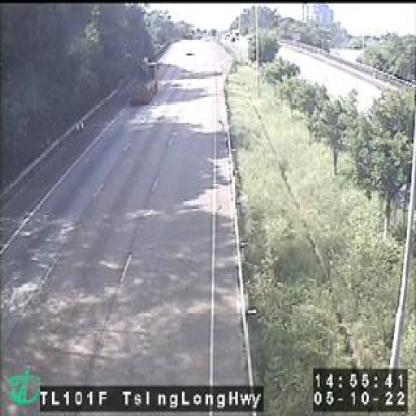Truck: (127, 59, 155, 104)
